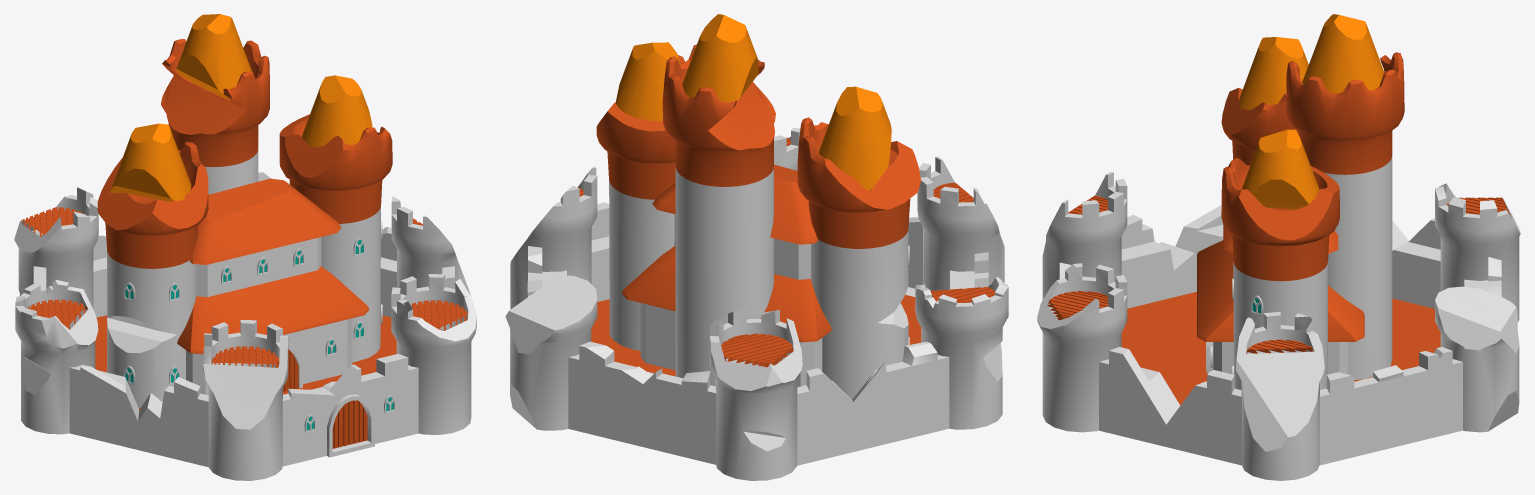
The model's file is Hex_Castle_Upgrade1_Stage2.fbx.
The picture shows the model from 3 angles, left to right: view 1: azimuth 30°, elevation 25°; view 2: azimuth 150°, elevation 25°; view 3: azimuth 270°, elevation 25°; orthographic projection. The views are drawn at different scales.
Visible parts, largest first — view 1: Hexagon_Castle_Upgrade1_Stage2; view 2: Hexagon_Castle_Upgrade1_Stage2; view 3: Hexagon_Castle_Upgrade1_Stage2.
Boxes of the visible parts, box(x1,y1,x2,y2) form: Hexagon_Castle_Upgrade1_Stage2: box(14, 14, 476, 480); Hexagon_Castle_Upgrade1_Stage2: box(505, 14, 1008, 480); Hexagon_Castle_Upgrade1_Stage2: box(1037, 14, 1520, 480).
Size of the model in its own units: 1117 by 809 by 1001.
Materials: 1 (1 with a texture image).
